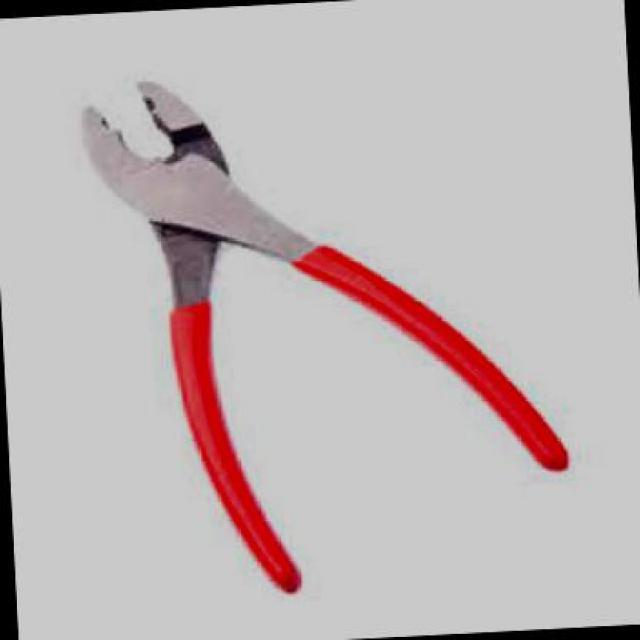pliers: (69, 44, 594, 616)
